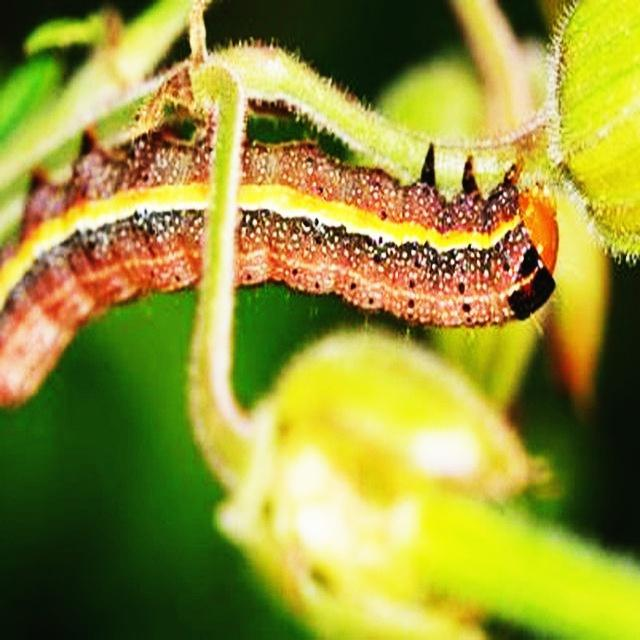Plaga: (1, 128, 561, 418)
